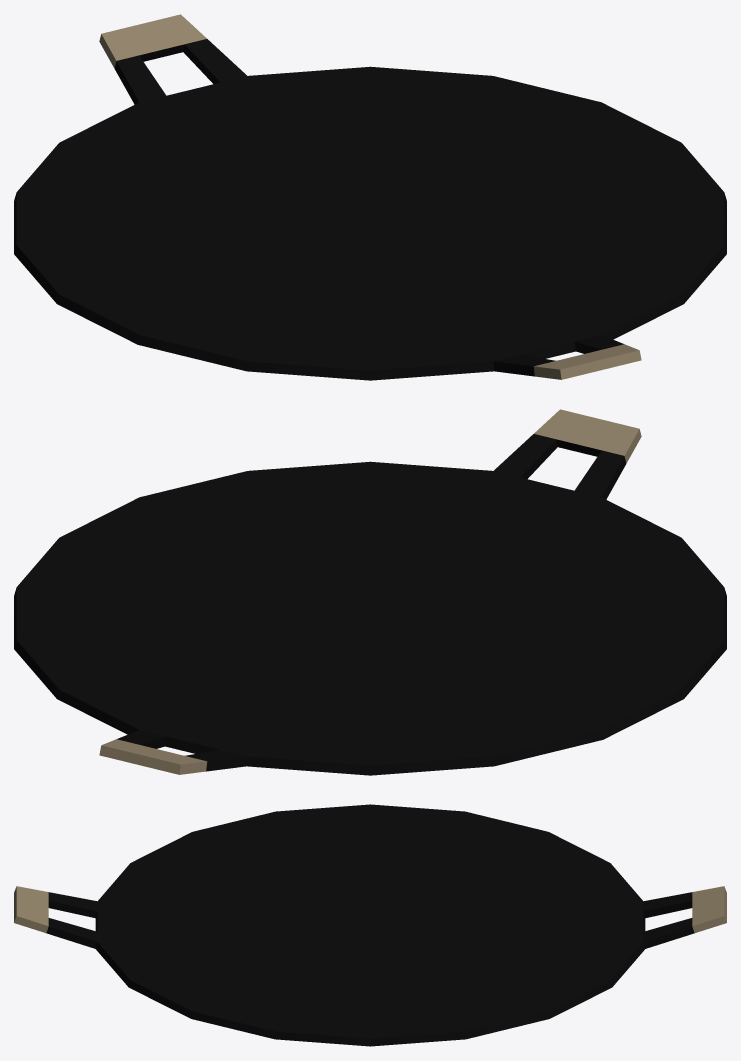
The model's file is PancakePan.FBX.
3 views of the same model, one above another, from view 1: azimuth 30°, elevation 25°; view 2: azimuth 150°, elevation 25°; view 3: azimuth 270°, elevation 25° (orthographic). The views are drawn at different scales.
Visible parts, largest first — view 1: PancakePan; view 2: PancakePan; view 3: PancakePan.
Boxes of the visible parts, <box> form: PancakePan: <box>14,14,726,380</box>; PancakePan: <box>14,409,726,775</box>; PancakePan: <box>14,804,726,1046</box>.
Bounding box in the file's own units: 31.73 × 1.72 × 40.51.
